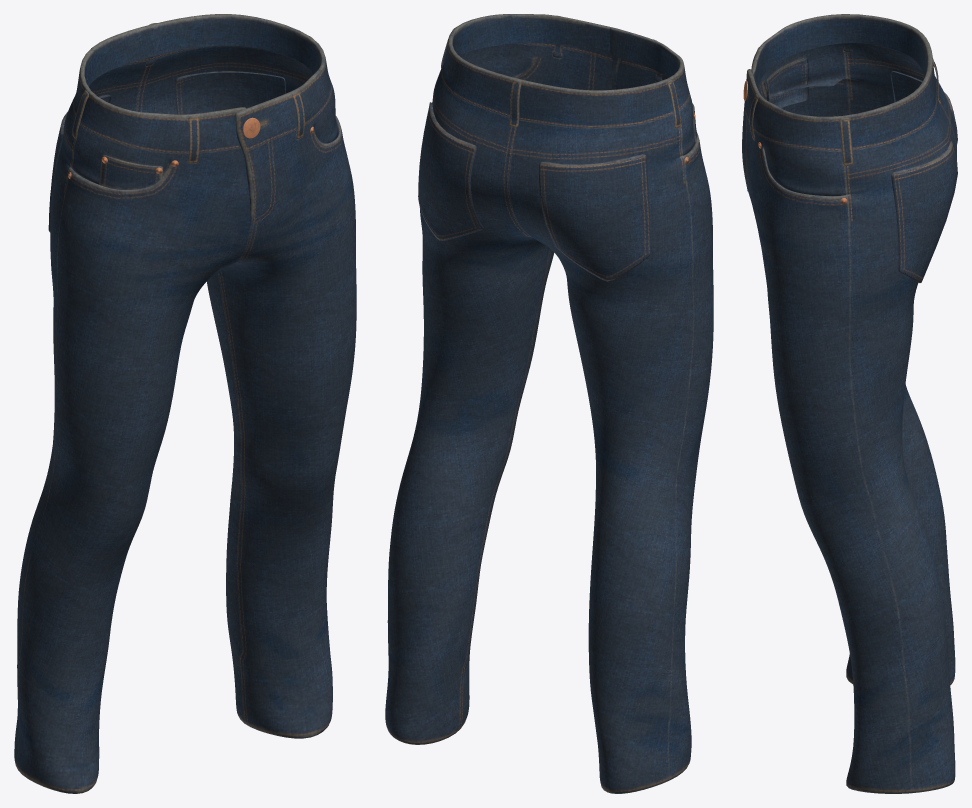
Rendered from male_jeans.glb.
The picture shows the model from 3 angles, left to right: view 1: azimuth 30°, elevation 25°; view 2: azimuth 150°, elevation 25°; view 3: azimuth 270°, elevation 25°; orthographic projection. The views are drawn at different scales.
Parts seen in each view (by area): view 1: Cube.004, Plane.007, Cube.005, Plane.008; view 2: Cube.004, Plane.008; view 3: Cube.004, Plane.008, Plane.007, Cube.006.
Boxes of the visible parts, left/top/right/bottom form: Cube.004: left=14, top=14, right=356, bottom=793; Plane.007: left=99, top=154, right=162, bottom=189; Cube.005: left=188, top=90, right=304, bottom=163; Plane.008: left=48, top=71, right=285, bottom=232; Cube.004: left=385, top=14, right=713, bottom=793; Plane.008: left=418, top=102, right=650, bottom=281; Cube.004: left=742, top=14, right=956, bottom=793; Plane.008: left=890, top=71, right=957, bottom=282; Plane.007: left=766, top=57, right=808, bottom=107; Cube.006: left=839, top=49, right=853, bottom=165.
Size of the model in its own units: 2.52 by 5.72 by 1.66.
Materials: 1 (1 with a texture image).
